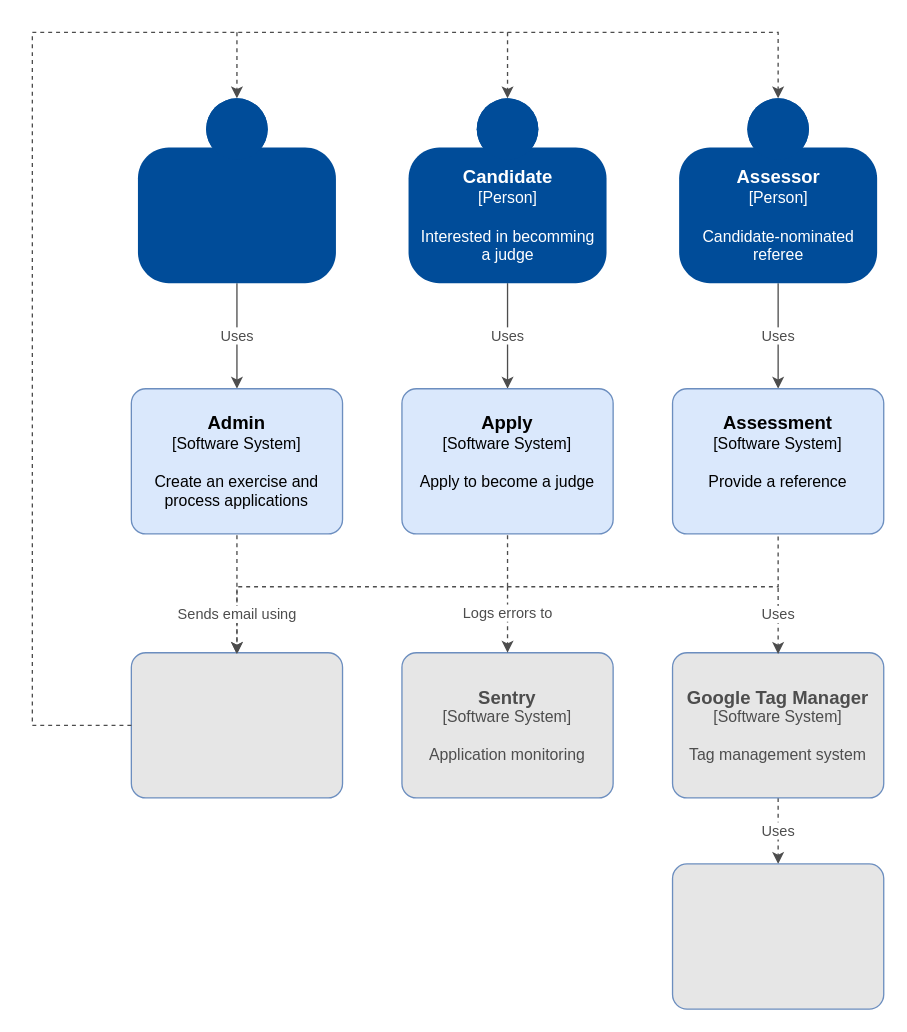
Image size: 907x1032. Some labels were removed from this diagram. The centre of each missing label's shape, as x and y in pixels:
Google Analytics [Software System] Web analytics: (x=777, y=936)
Gov.UK Notify [Software System] Send email, sms and mail: (x=236, y=724)
JAC Staff [Person] Member of JAC team: (x=236, y=190)
